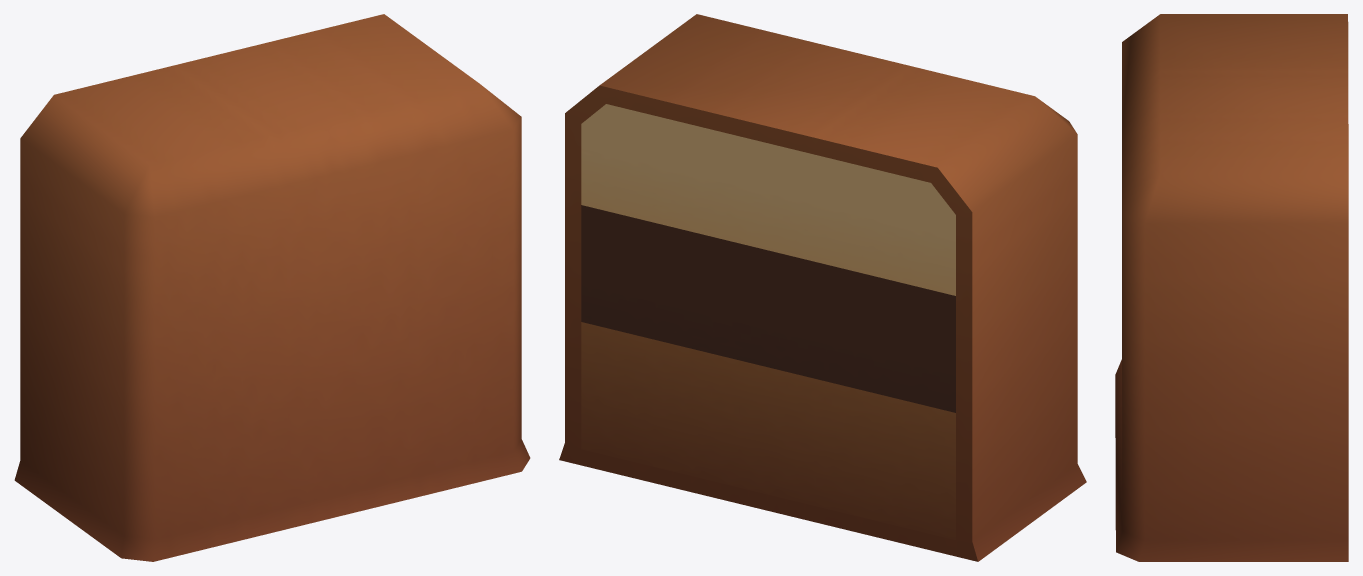
File: m_GermanDominostein02_Cut.fbx
The picture shows the model from 3 angles, left to right: view 1: azimuth 30°, elevation 25°; view 2: azimuth 150°, elevation 25°; view 3: azimuth 270°, elevation 25°; orthographic projection. The views are drawn at different scales.
Parts seen in each view (by area): view 1: m_GermanDominostein02_Cut; view 2: m_GermanDominostein02_Cut; view 3: m_GermanDominostein02_Cut.
Part boxes in pixels (x1,y1,x2,y2): m_GermanDominostein02_Cut: (14,14,530,561); m_GermanDominostein02_Cut: (559,14,1086,561); m_GermanDominostein02_Cut: (1115,14,1348,561).
Bounding box in the file's own units: 4.12 × 3.61 × 2.06.
